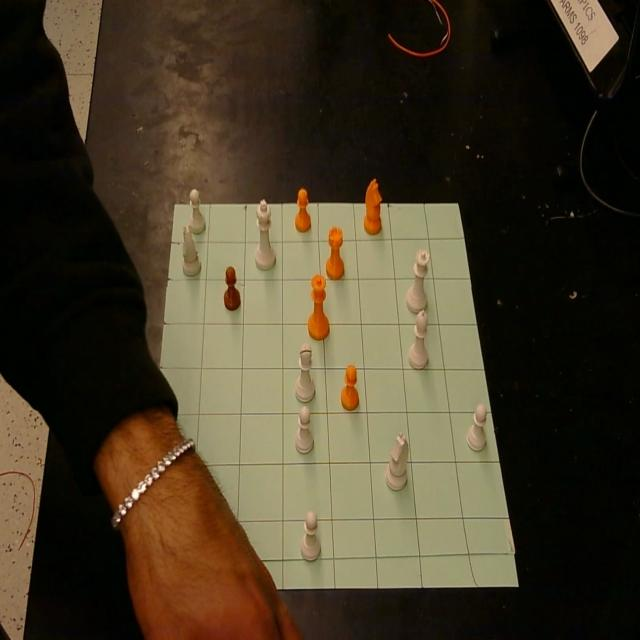orange_knight: (364, 178, 382, 235)
orange_pawn: (341, 364, 359, 411), (223, 266, 240, 310), (295, 186, 311, 232)
orange_queen: (308, 274, 330, 340)
orange_rook: (326, 226, 345, 280)
white_bishop: (407, 309, 429, 369), (295, 342, 316, 402)
white_king: (255, 200, 276, 270)
white_knight: (384, 431, 409, 491), (182, 226, 200, 276)
white_pawn: (466, 404, 487, 451), (301, 511, 320, 561), (295, 405, 313, 454), (188, 187, 205, 234)
white_queen: (406, 249, 428, 313)
